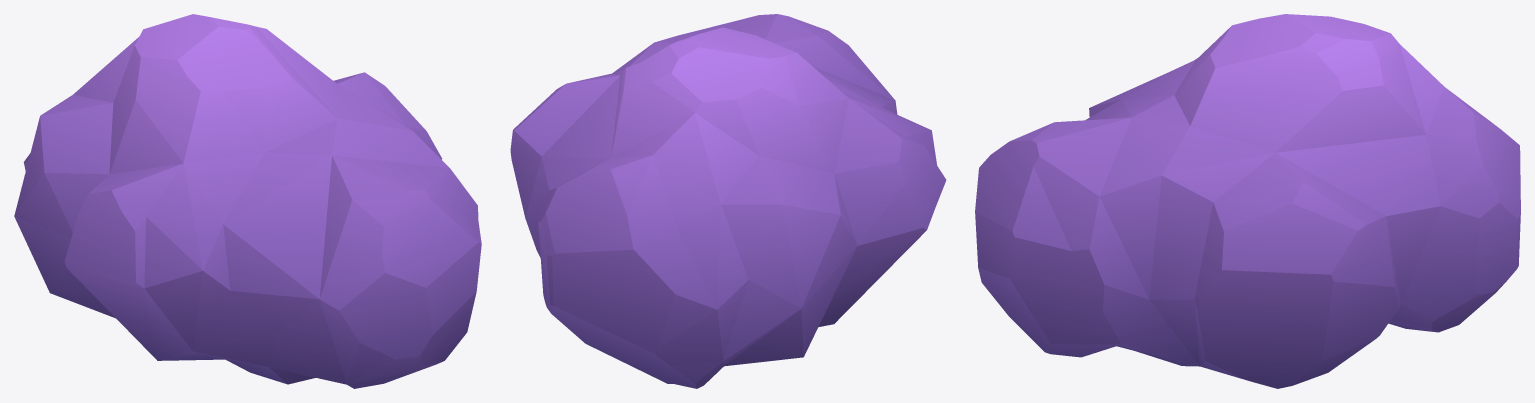
Rendered from Crystal_P_24.glb.
The picture shows the model from 3 angles, left to right: view 1: azimuth 30°, elevation 25°; view 2: azimuth 150°, elevation 25°; view 3: azimuth 270°, elevation 25°; orthographic projection. The views are drawn at different scales.
Parts seen in each view (by area): view 1: crystal_24; view 2: crystal_24; view 3: crystal_24.
Part boxes in pixels (x1,y1,x2,y2): crystal_24: [14, 14, 481, 388]; crystal_24: [510, 14, 946, 388]; crystal_24: [975, 14, 1520, 388].
Size of the model in its own units: 0.8189 by 0.6302 by 1.
1 material, 1 textured.
